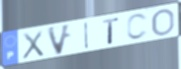C: (125, 12, 149, 41)
I: (84, 20, 90, 51)
O: (151, 8, 176, 37)
T: (101, 17, 120, 45)
V: (45, 22, 73, 57)
X: (21, 29, 46, 61)
